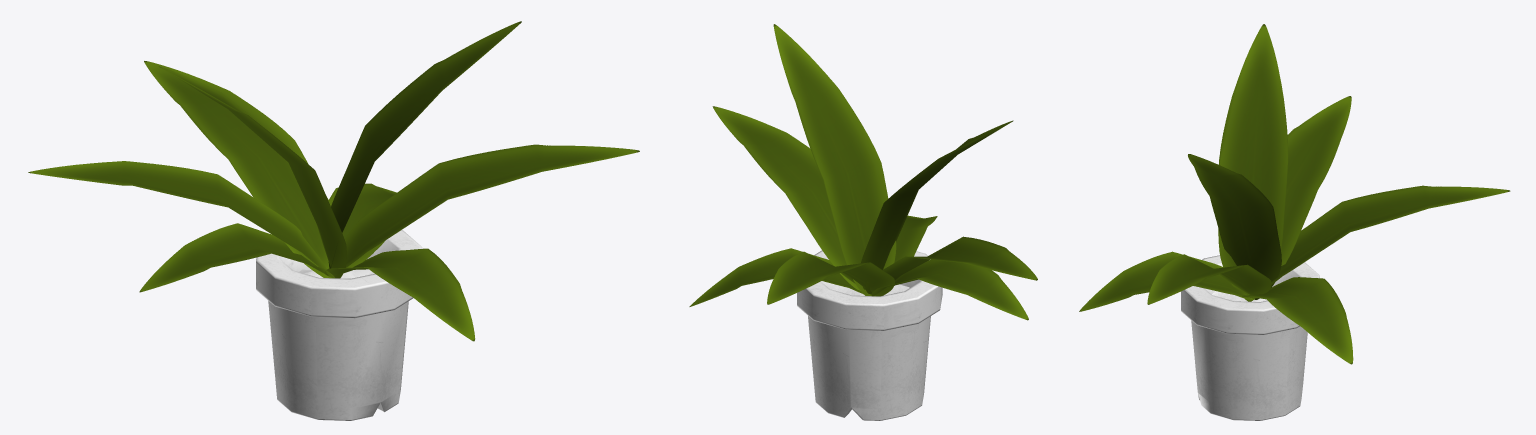
Rendered from Plant_E.fbx.
3 views of the same model, side by side, from view 1: azimuth 30°, elevation 25°; view 2: azimuth 150°, elevation 25°; view 3: azimuth 270°, elevation 25° (orthographic). The views are drawn at different scales.
Parts seen in each view (by area): view 1: U_Plant_E; view 2: U_Plant_E; view 3: U_Plant_E.
Boxes of the visible parts, <box> form: U_Plant_E: <box>28,21,639,420</box>; U_Plant_E: <box>689,24,1037,420</box>; U_Plant_E: <box>1079,24,1510,420</box>.
Bounding box in the file's own units: 122 × 84.74 × 111.
Materials: 3 (3 with a texture image).
